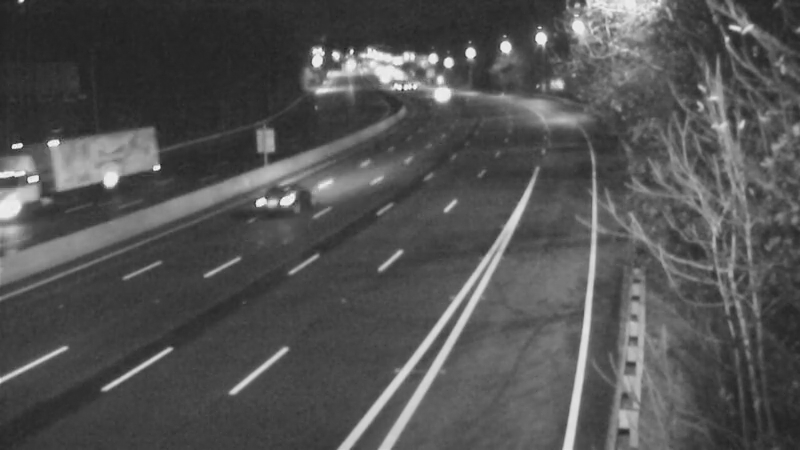vehicle: (235, 157, 315, 237), (31, 155, 111, 235), (378, 59, 428, 109), (414, 67, 464, 117)
